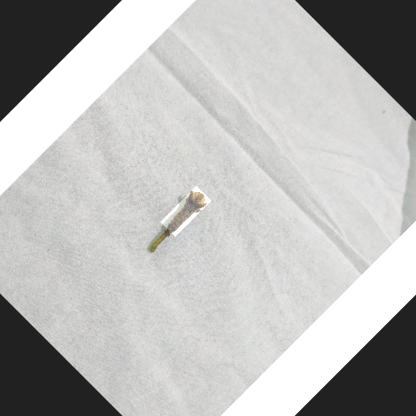sedang: (166, 191, 207, 233)
